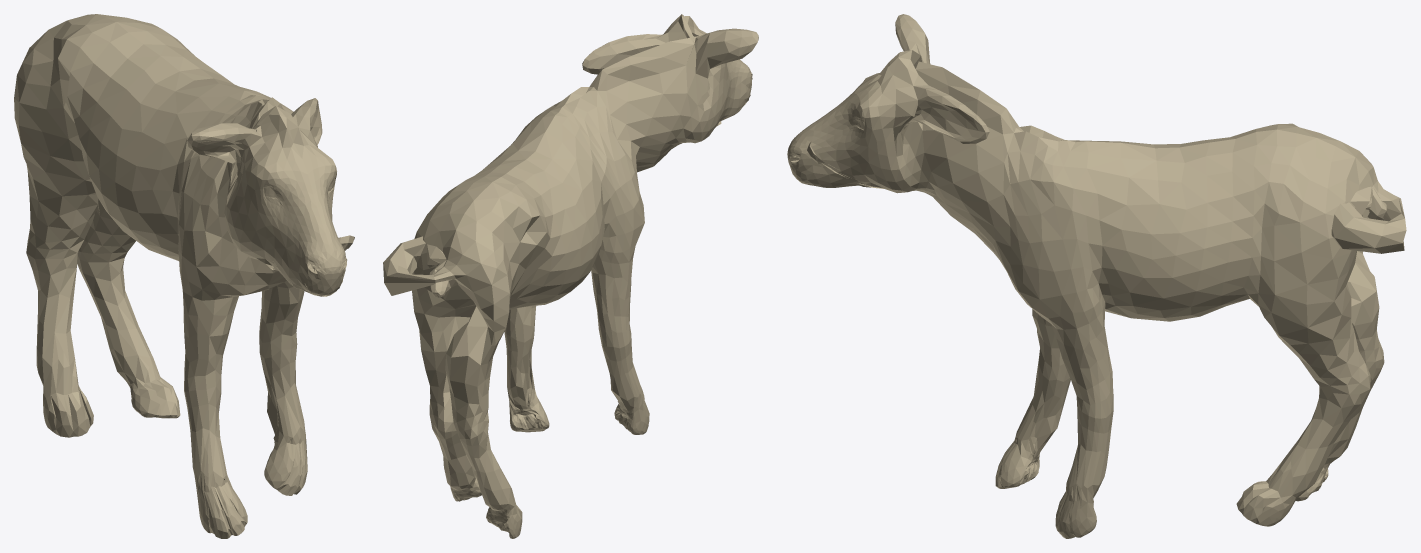
3 renders of one model, left to right at view 1: azimuth 30°, elevation 25°; view 2: azimuth 150°, elevation 25°; view 3: azimuth 270°, elevation 25°, orthographic. The views are drawn at different scales.
Visible parts, largest first — view 1: world; view 2: world; view 3: world.
Boxes of the visible parts, box(x1,y1,x2,y2) form: world: box(14, 14, 354, 538); world: box(383, 14, 758, 538); world: box(787, 14, 1406, 538).
Bounding box in the file's own units: 0.6668 × 1.38 × 1.73.
